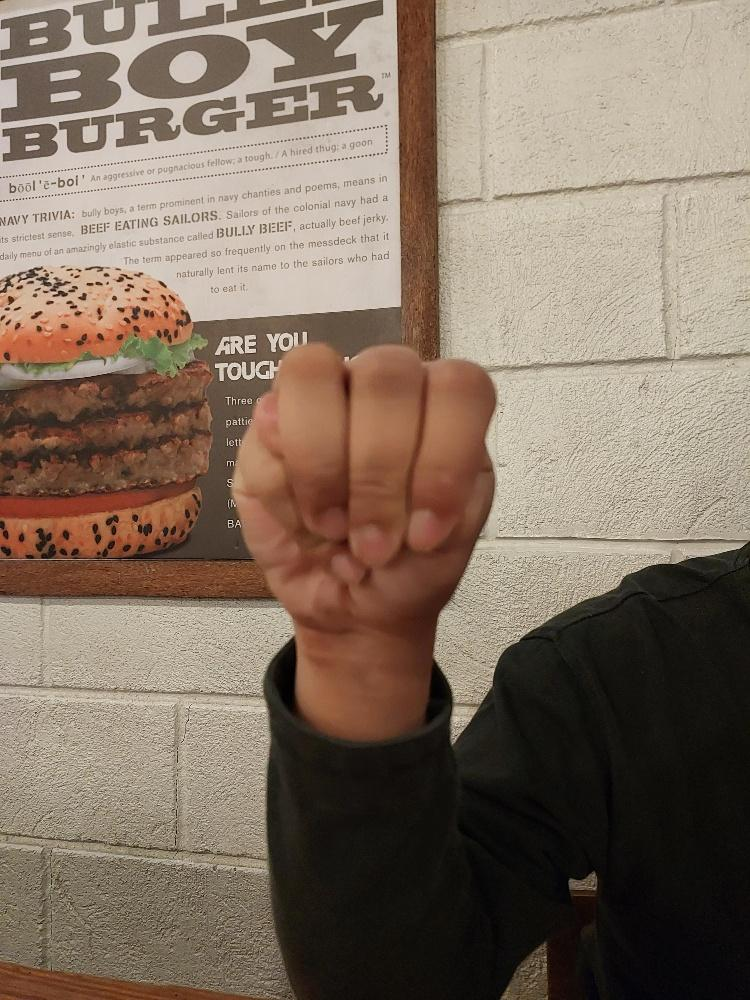m: (228, 336, 497, 637)
